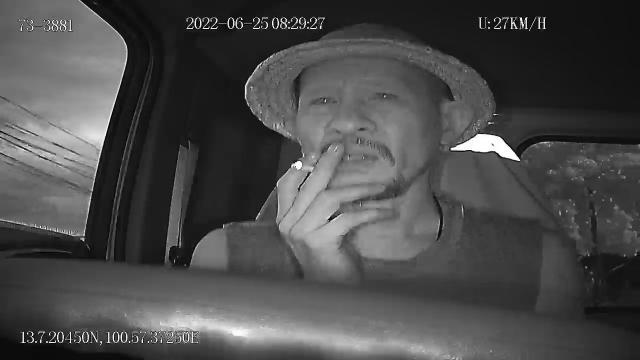SafeDriving: (362, 81, 404, 108), (305, 85, 343, 112)
Smoking: (291, 161, 315, 175)
